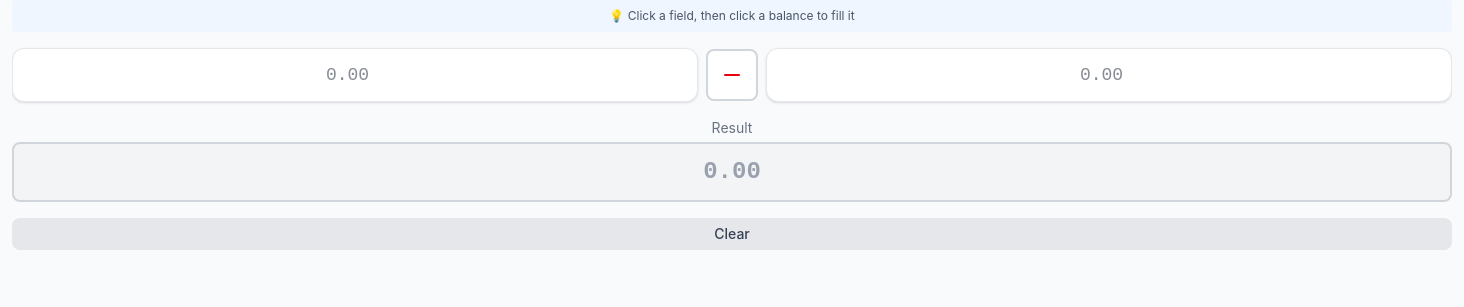
QuickCalculator › subtracts the second operand from the first by default
Type "100" into the number field named "first operand" at (355, 75), box [12, 48, 698, 102]
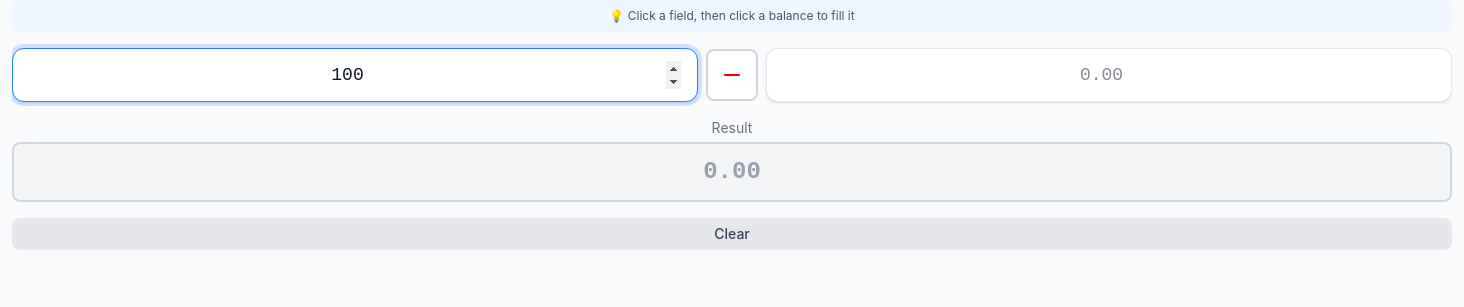
Type "40" into the number field named "second operand" at (1109, 75), box [766, 48, 1452, 102]
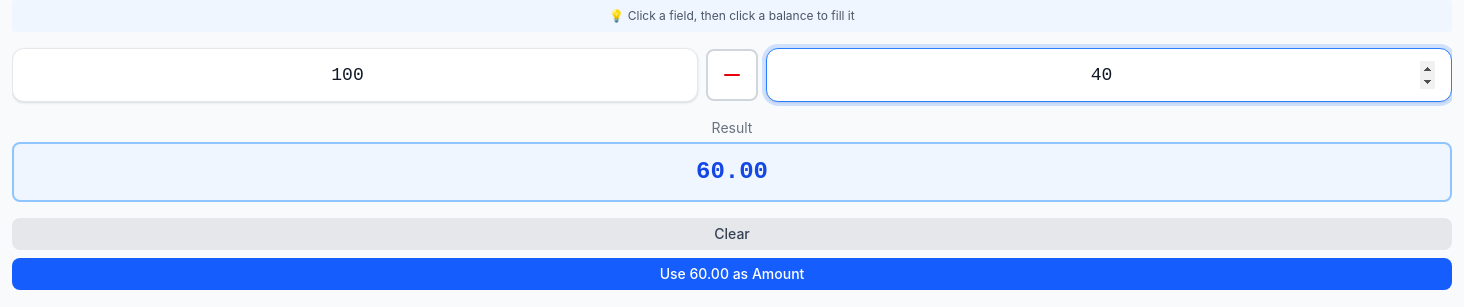
Now the text "60.00" is shown, box [12, 142, 1452, 202]
